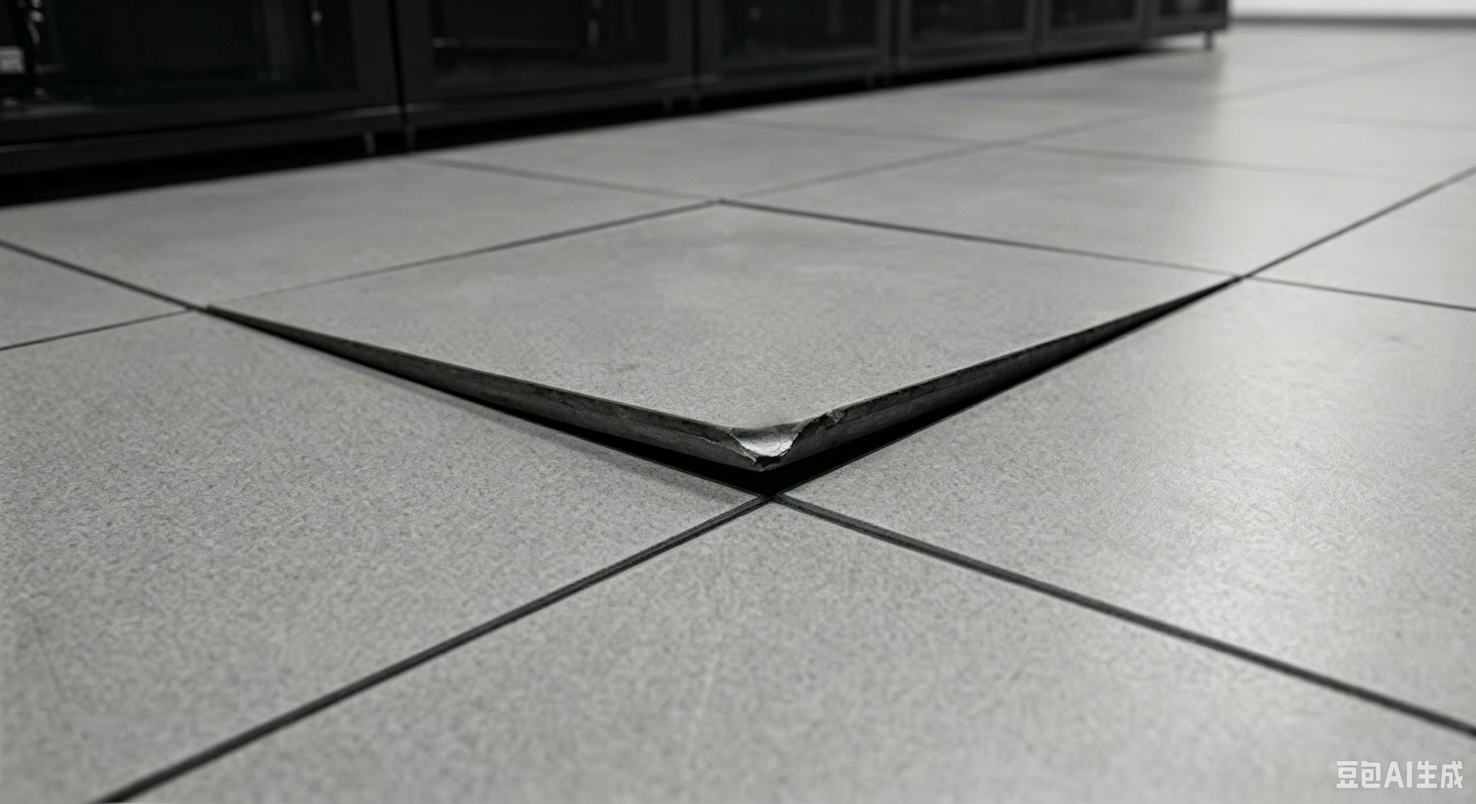floor_defect: (216, 294, 799, 513), (799, 355, 1054, 501), (1006, 300, 1185, 373), (1166, 248, 1274, 319)
